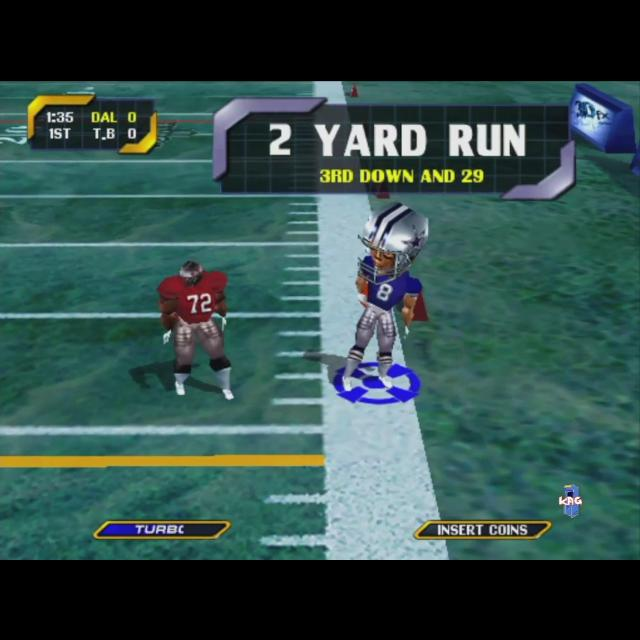player: (342, 202, 428, 390), (156, 260, 234, 400)
